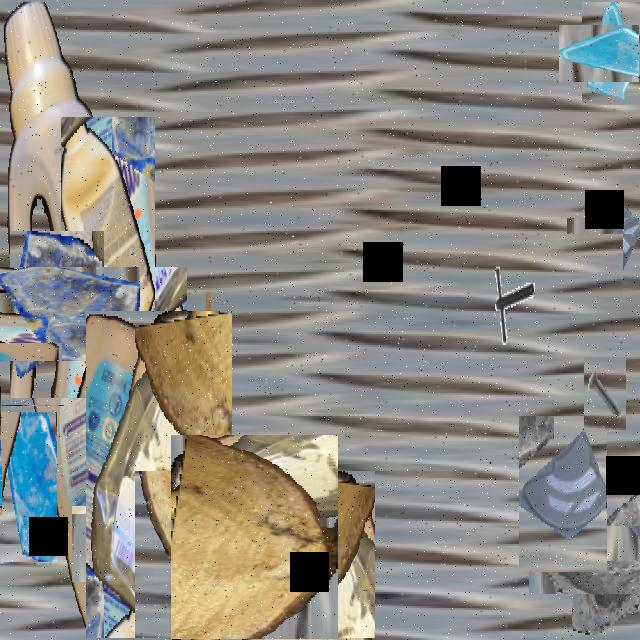glass: (0, 249, 122, 379), (519, 416, 607, 572), (550, 503, 640, 616), (0, 435, 80, 538), (570, 13, 640, 93), (595, 189, 640, 262)
metal: (113, 279, 199, 365), (486, 261, 534, 347), (584, 357, 626, 432)
plastic: (2, 2, 206, 634), (86, 311, 232, 638), (61, 117, 155, 345), (0, 373, 32, 437)
wood: (153, 452, 356, 640), (99, 478, 231, 610)
